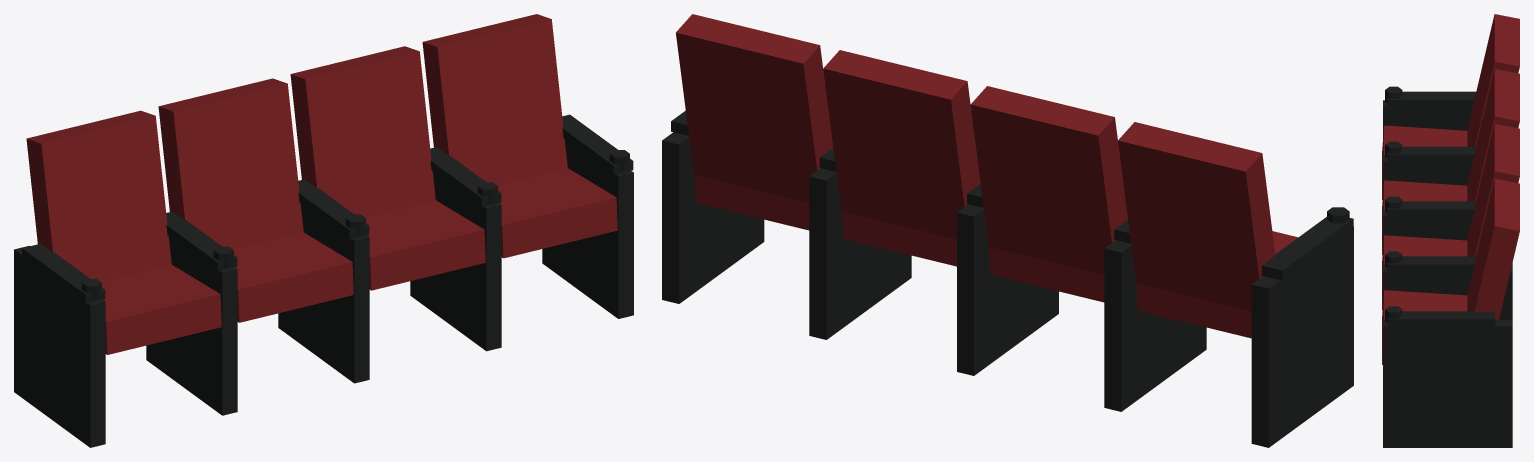
Rendered from cinema_seats.glb.
3 renders of one model, left to right at view 1: azimuth 30°, elevation 25°; view 2: azimuth 150°, elevation 25°; view 3: azimuth 270°, elevation 25°, orthographic. The views are drawn at different scales.
Parts seen in each view (by area): view 1: CinemaSeats; view 2: CinemaSeats; view 3: CinemaSeats.
Boxes of the visible parts, x1,y1,x2,y2 form: CinemaSeats: (14, 14, 633, 447); CinemaSeats: (662, 14, 1353, 447); CinemaSeats: (1382, 14, 1519, 447).
Size of the model in its own units: 2.49 by 1.1 by 0.6374.
